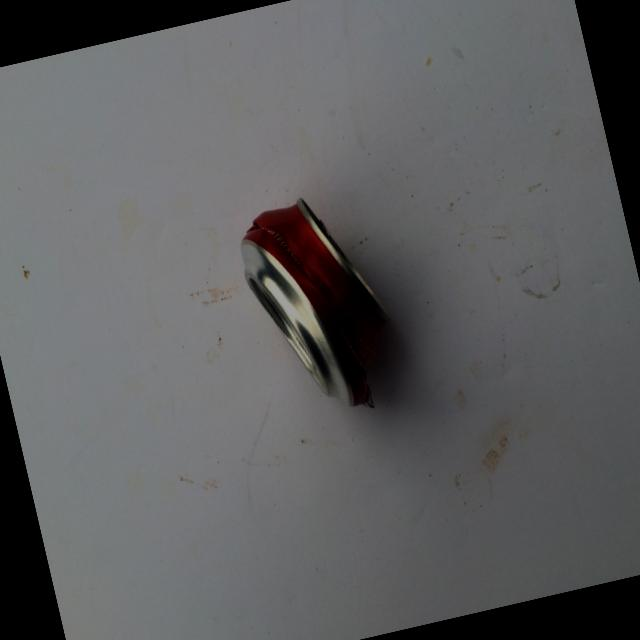Metal: (216, 146, 412, 437)
